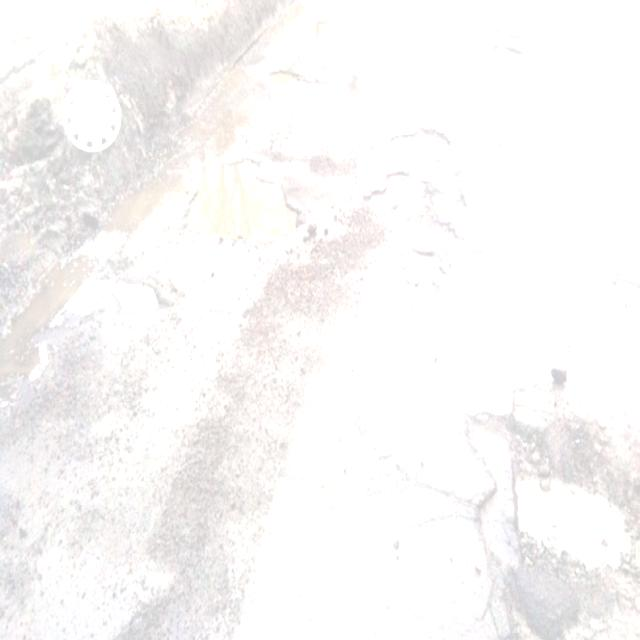Pothole: (152, 130, 474, 324), (452, 320, 640, 622), (0, 224, 177, 424), (476, 0, 640, 96)
